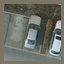car: (24, 13, 41, 52)
